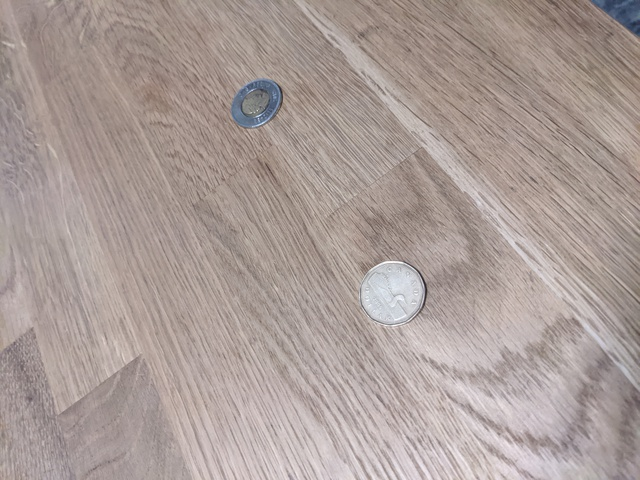loonie: (357, 251, 428, 325)
twonie: (230, 77, 289, 132)
